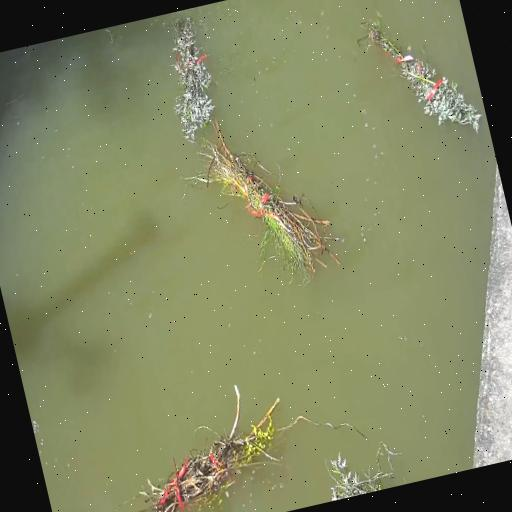twig: (194, 122, 339, 278), (141, 390, 279, 512), (358, 20, 481, 132), (174, 17, 215, 142), (329, 442, 400, 501)
